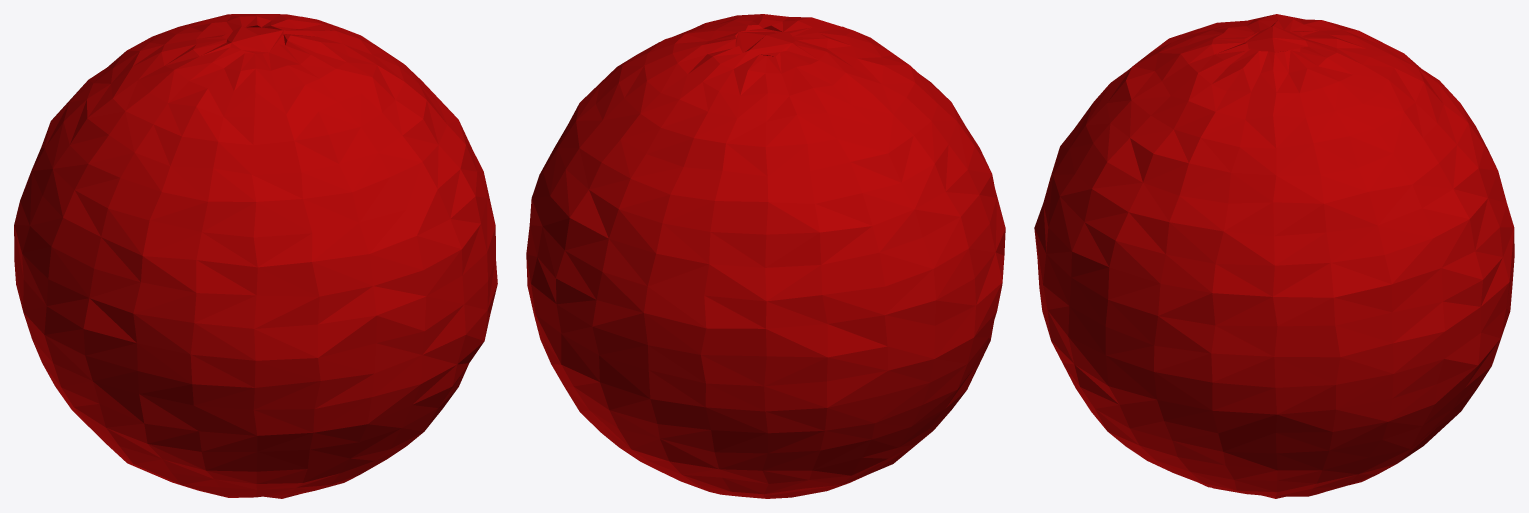
File: tumorCellO1.dae
The picture shows the model from 3 angles, left to right: view 1: azimuth 30°, elevation 25°; view 2: azimuth 150°, elevation 25°; view 3: azimuth 270°, elevation 25°; orthographic projection.
Visible parts, largest first — view 1: sphere; view 2: sphere; view 3: sphere.
Part boxes in pixels (x1=…): sphere: x1=14, y1=14, x2=497, y2=498; sphere: x1=526, y1=14, x2=1005, y2=498; sphere: x1=1034, y1=14, x2=1514, y2=498.
Bounding box in the file's own units: 8 × 7.99 × 8.05.
